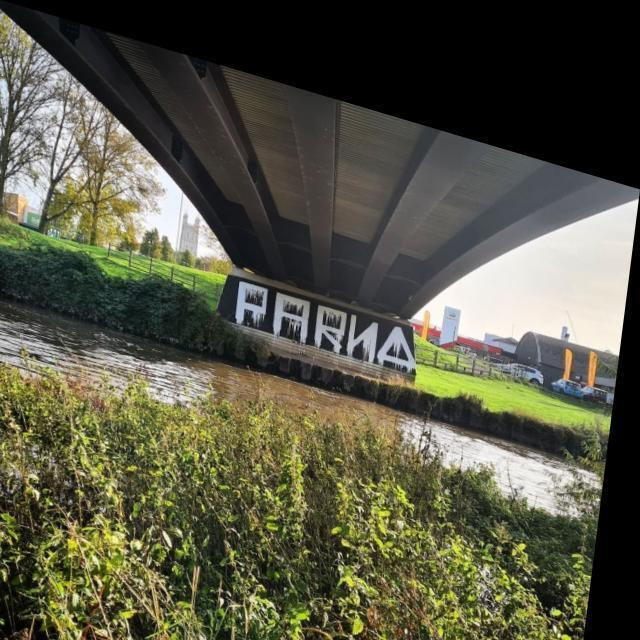nonspitting: (236, 280, 417, 371)
